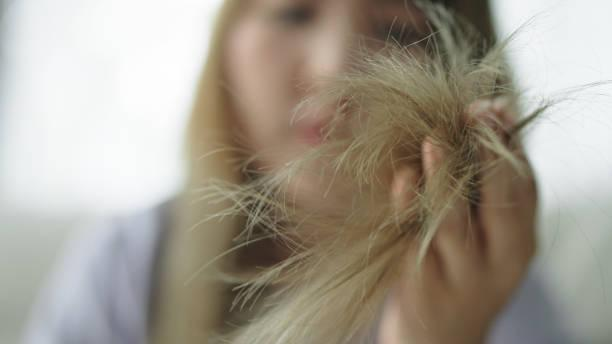dry hair: (411, 68, 513, 91), (412, 106, 483, 135), (359, 52, 407, 84), (243, 192, 265, 212)
